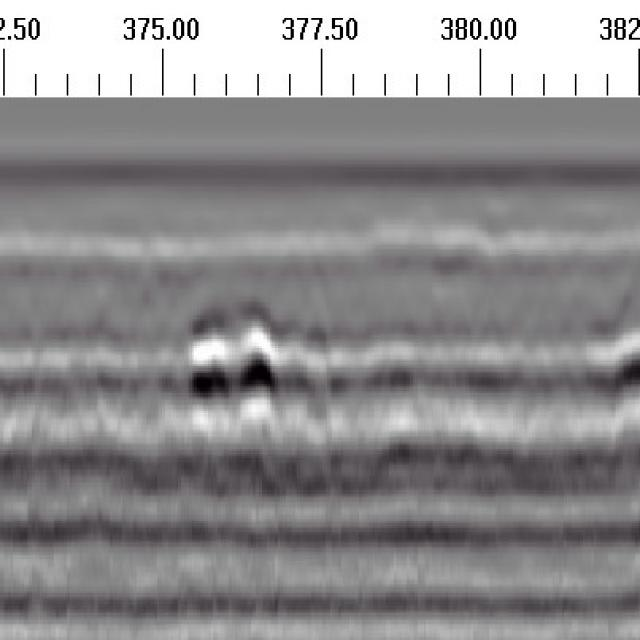loose: (174, 300, 327, 430)
